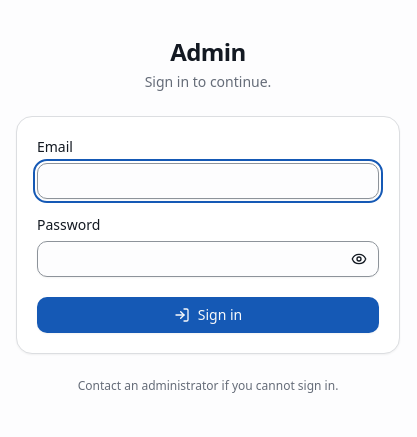
Test case: nobody signed in › shows what the server said, and keeps the address typed
Expected: the button "Sign in" is shown, [37, 297, 379, 333]
Type "admin@example.com" into the field labelled "Email".
click(208, 181); type("admin@example.com")  # box [37, 163, 379, 199]
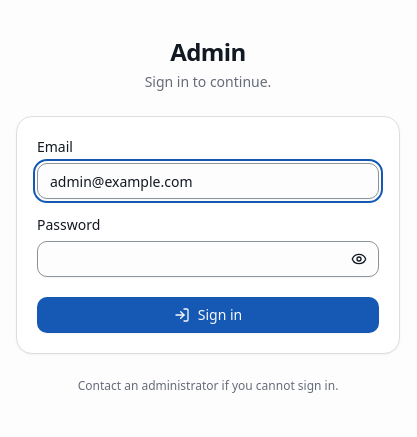
Type "wrong" into the password field labelled "Password".
click(208, 259); type("wrong")  # box [37, 241, 379, 277]
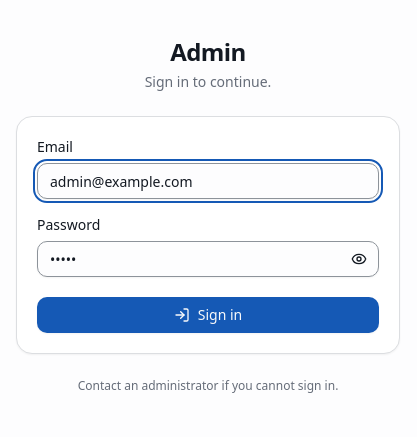
Click the button "Sign in".
click(208, 315)  # box [37, 297, 379, 333]
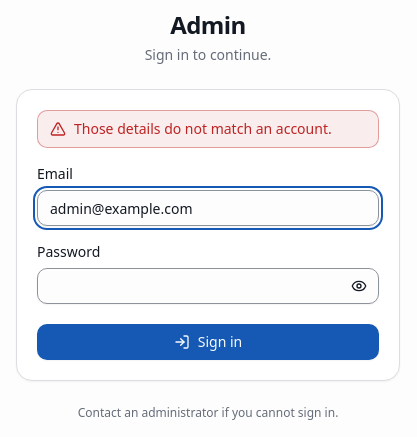
Expected: the message shows "do not match an account", [74, 119, 332, 138]
Expected: the password field labelled "Password" is empty, [37, 268, 379, 304]
